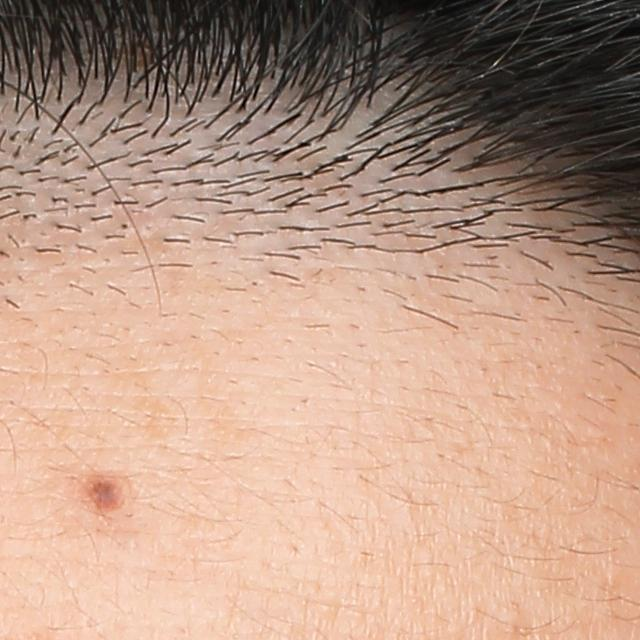nevus: (84, 474, 129, 513)
